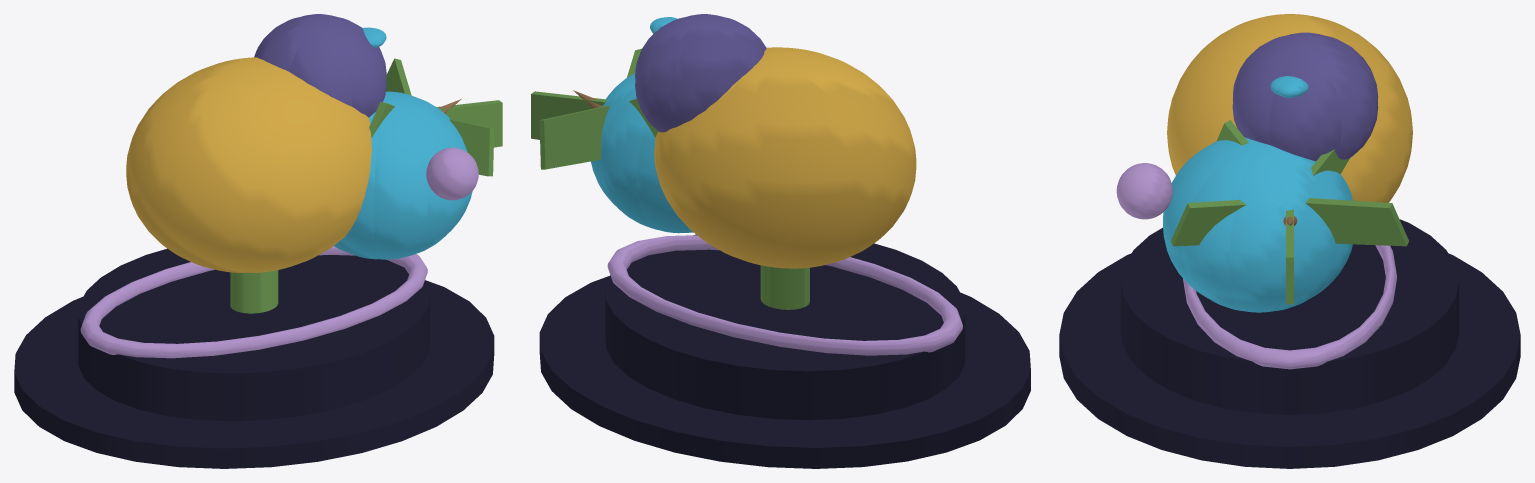
Rendered from 0617_蘑菇图鉴_硬皮地星.glb.
The picture shows the model from 3 angles, left to right: view 1: azimuth 30°, elevation 25°; view 2: azimuth 150°, elevation 25°; view 3: azimuth 270°, elevation 25°; orthographic projection. The views are drawn at different scales.
Parts seen in each view (by area): view 1: card_0617; view 2: card_0617; view 3: card_0617.
Boxes of the visible parts, <box> form: card_0617: <box>14,14,502,468</box>; card_0617: <box>531,14,1030,468</box>; card_0617: <box>1059,14,1520,468</box>.
Size of the model in its own units: 1.46 by 1 by 1.18.
